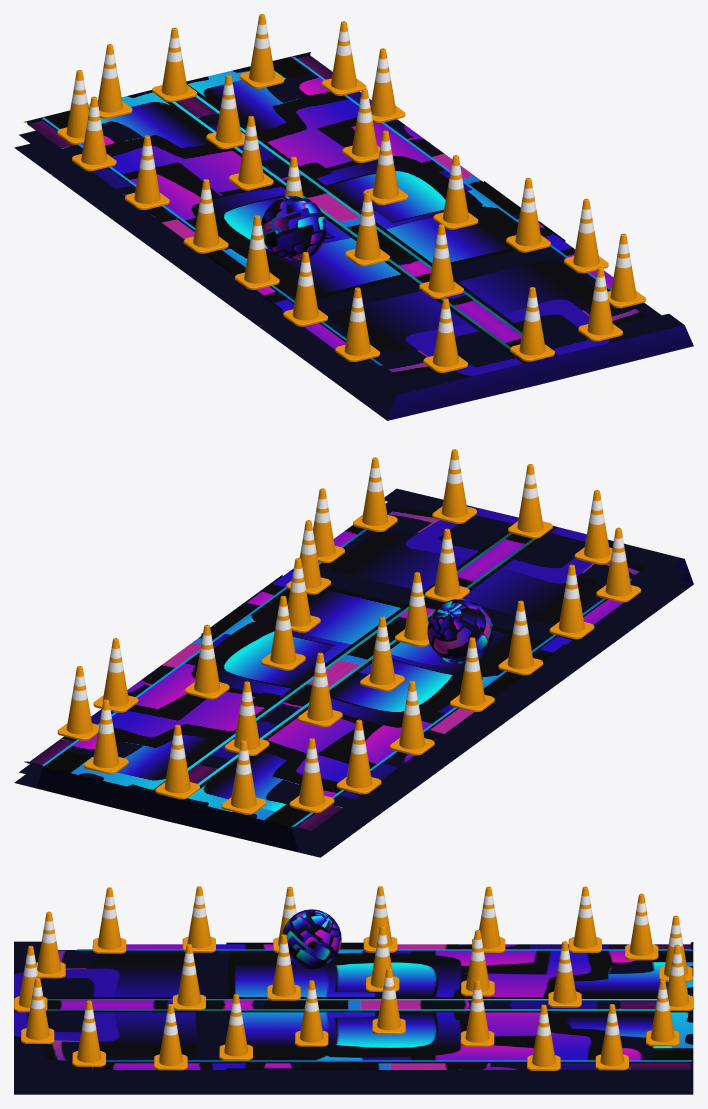
The model's file is RollerTrack.fbx.
3 views of the same model, one above another, from view 1: azimuth 30°, elevation 25°; view 2: azimuth 150°, elevation 25°; view 3: azimuth 270°, elevation 25° (orthographic). The views are drawn at different scales.
Parts seen in each view (by area): view 1: Road_Plane_1, Sphere, TrafficCone.009, TrafficCone.013, TrafficCone.026, TrafficCone.020, TrafficCone.003, TrafficCone.014, TrafficCone.015, TrafficCone.016, TrafficCone.006, TrafficCone.022 (+15 smaller); view 2: Road_Plane_1, Sphere, TrafficCone.009, TrafficCone.018, TrafficCone.020, TrafficCone.024, TrafficCone.015, TrafficCone.016, TrafficCone.008, TrafficCone.001, TrafficCone.011, TrafficCone.013 (+16 smaller); view 3: Road_Plane_1, Sphere, TrafficCone.002, TrafficCone.005, TrafficCone.007, TrafficCone.020, TrafficCone.025, TrafficCone, TrafficCone.022, TrafficCone.012, TrafficCone.014, TrafficCone.001 (+16 smaller).
Part boxes in pixels (x1,y1,x2,y2): Road_Plane_1: (14,52,693,420); Sphere: (261,195,326,261); TrafficCone.009: (183,179,228,253); TrafficCone.013: (228,116,273,190); TrafficCone.026: (578,266,622,341); TrafficCone.020: (239,14,284,88); TrafficCone.003: (152,27,196,102); TrafficCone.014: (345,191,389,266); TrafficCone.015: (283,252,327,326); TrafficCone.016: (72,96,116,171); TrafficCone.006: (433,155,478,229); TrafficCone.022: (506,178,550,252); Road_Plane_1: (14,488,693,857); Sphere: (427,599,492,664); TrafficCone.009: (450,637,494,711); TrafficCone.018: (498,600,543,675); TrafficCone.020: (84,699,128,774); TrafficCone.024: (221,740,266,814); TrafficCone.015: (549,564,594,639); TrafficCone.016: (336,719,381,794); TrafficCone.008: (508,464,552,538); TrafficCone.001: (596,527,640,602); TrafficCone.011: (360,616,404,691); TrafficCone.013: (298,652,342,727); Road_Plane_1: (14,941,693,1094); Sphere: (282,909,341,969); TrafficCone.002: (625,893,658,960); TrafficCone.005: (460,980,494,1046); TrafficCone.007: (154,1004,187,1070); TrafficCone.020: (646,980,679,1046); TrafficCone.025: (595,1004,628,1070); TrafficCone: (372,968,405,1034); TrafficCone.022: (219,994,252,1060); TrafficCone.012: (548,941,581,1007); TrafficCone.014: (267,934,300,1000); TrafficCone.001: (93,887,126,953).
Bounding box in the file's own units: 355 × 98.96 × 749.
